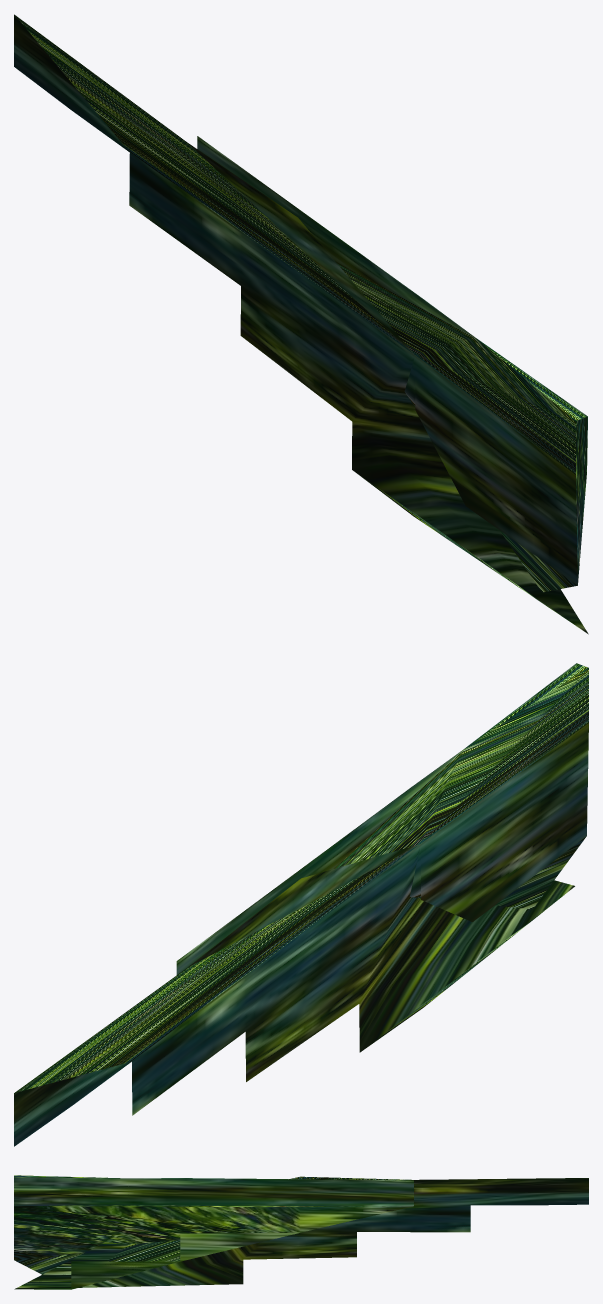
3 views of the same model, one above another, from view 1: azimuth 30°, elevation 25°; view 2: azimuth 150°, elevation 25°; view 3: azimuth 270°, elevation 25° (orthographic). The views are drawn at different scales.
Visible parts, largest first — view 1: algae_cube_Cube; view 2: algae_cube_Cube; view 3: algae_cube_Cube.
Part boxes in pixels (box(x1,y1,x2,y2)): algae_cube_Cube: box(14, 14, 588, 634); algae_cube_Cube: box(14, 663, 588, 1146); algae_cube_Cube: box(14, 1175, 588, 1289).
Size of the model in its own units: 0.0106 by 0.1684 by 0.7834.
